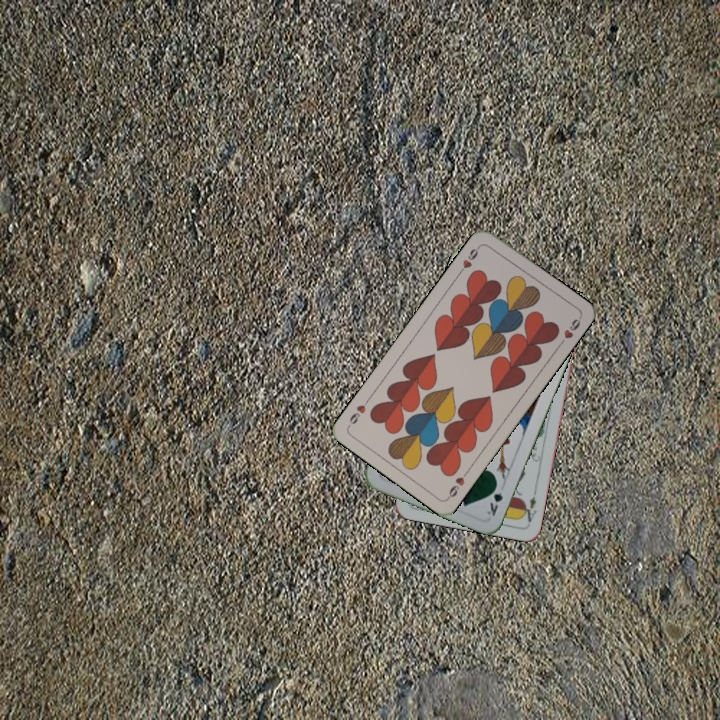EA: (518, 486, 539, 524)
GK: (483, 479, 506, 519)
H9: (455, 241, 483, 277), (444, 466, 471, 502)
